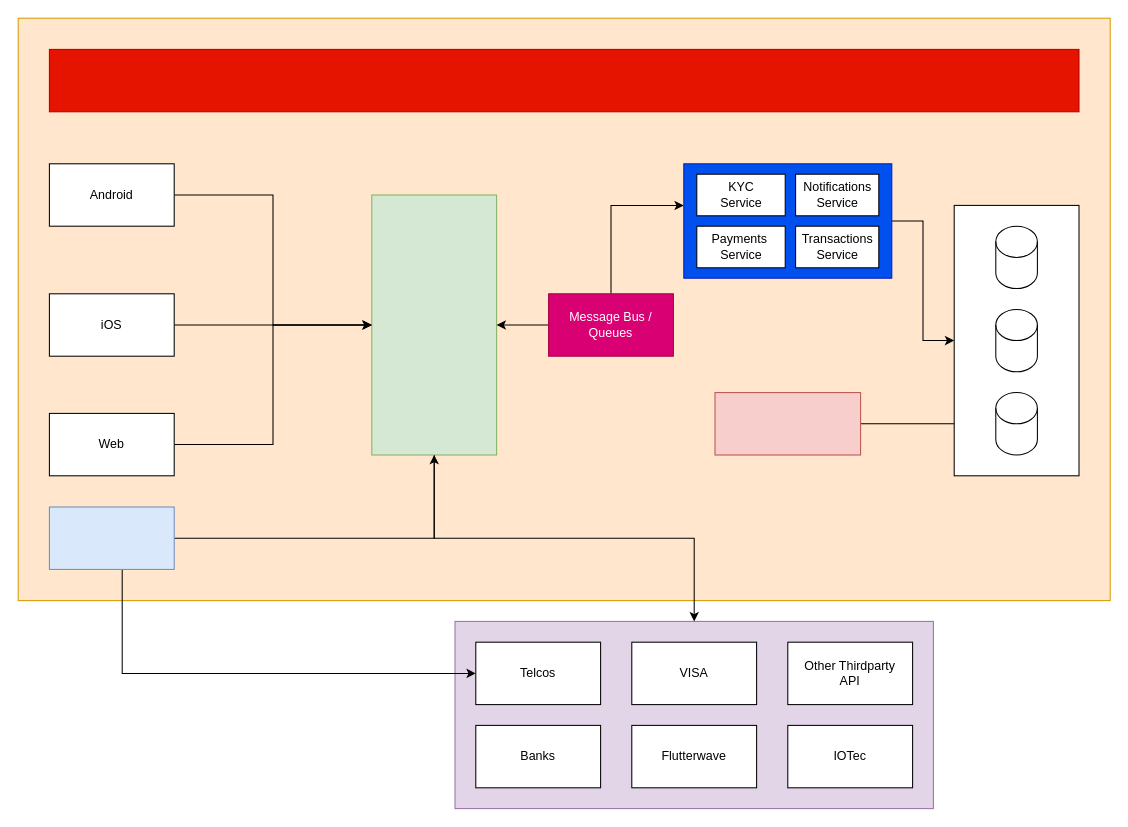
Some shapes in this 1128 by 827 pixel diagram are drawn without their labels. The shapes that lost their labels are listed below. From the top down, each one's box as (x1, y1, x2, y2) in pixels, then its label:
(48, 48, 1079, 112): Authentication / Authorization
(371, 194, 497, 455): API Gateway
(714, 392, 861, 455): Credit Scoring Engine
(48, 506, 174, 569): USSD
